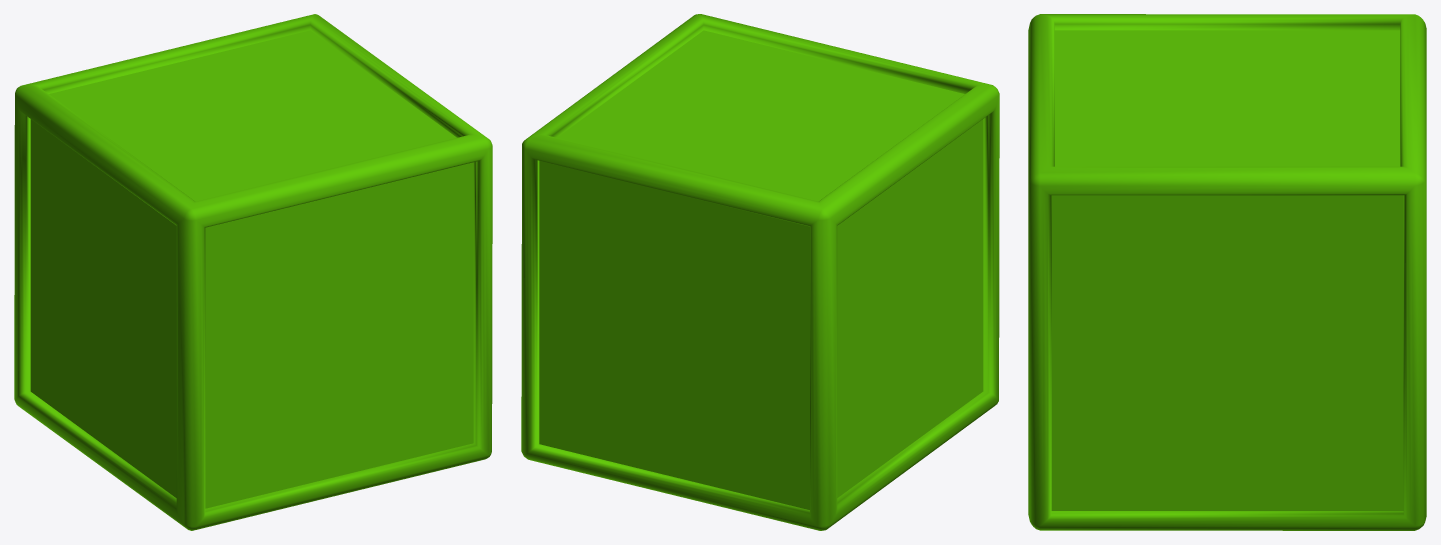
Rendered from prueba_cubo_final_blooming.gltf.
3 renders of one model, left to right at view 1: azimuth 30°, elevation 25°; view 2: azimuth 150°, elevation 25°; view 3: azimuth 270°, elevation 25°, orthographic. The views are drawn at different scales.
Parts seen in each view (by area): view 1: Cube.001, Cube, Cube.004, Cube.003; view 2: Cube.002, Cube, Cube.004, Cube.003; view 3: Cube.006, Cube, Cube.003.
Part boxes in pixels (x1,y1,x2,y2): Cube.001: (205, 162, 473, 508); Cube: (14, 14, 492, 530); Cube.004: (30, 119, 176, 497); Cube.003: (49, 30, 456, 201); Cube.002: (539, 160, 809, 509); Cube: (521, 14, 999, 530); Cube.004: (837, 119, 983, 497); Cube.003: (557, 30, 964, 201); Cube.006: (1051, 195, 1403, 510); Cube: (1028, 14, 1426, 530); Cube.003: (1054, 30, 1400, 166).
Bounding box in the file's own units: 2.13 × 2.14 × 2.13.
